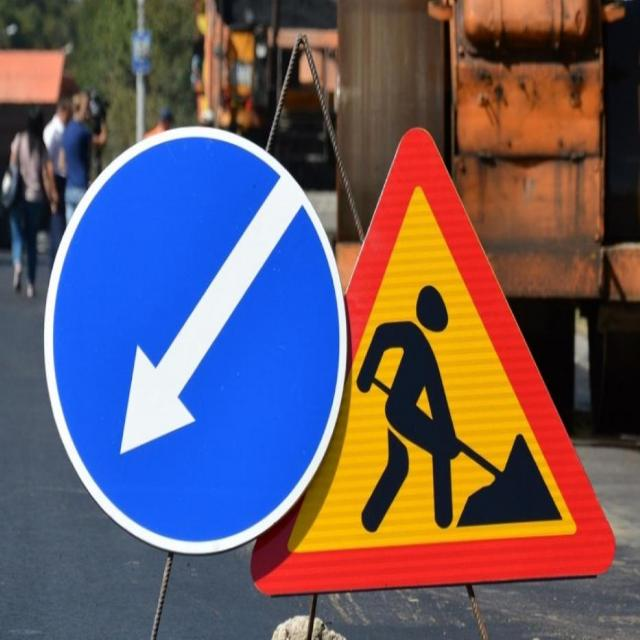roadwork: (351, 120, 558, 576)
